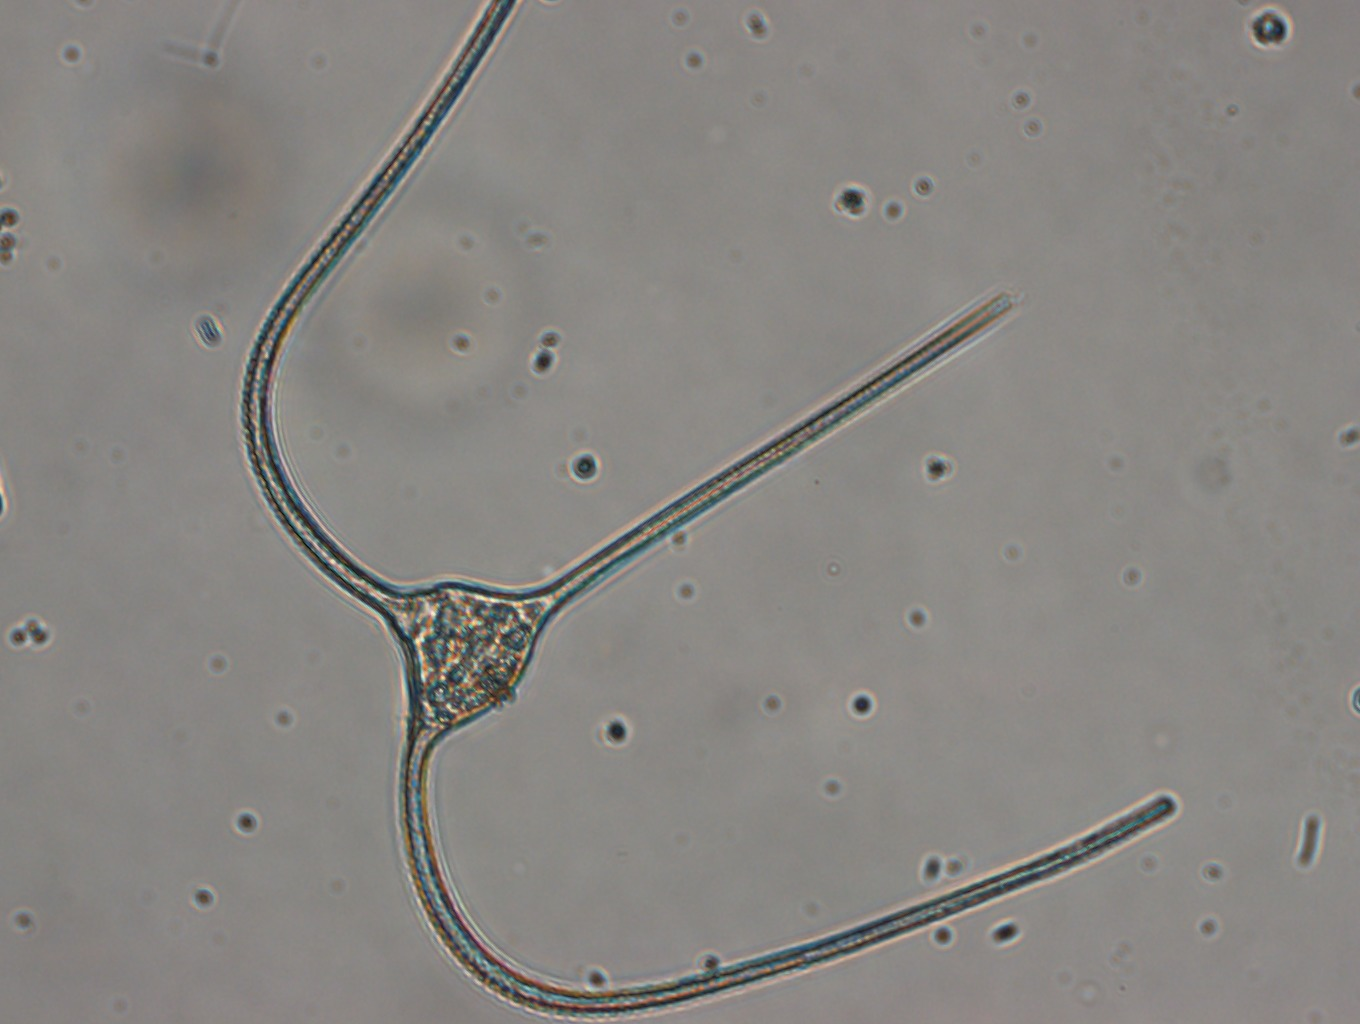ceratium trichoceros: (237, 1, 1182, 1019)
